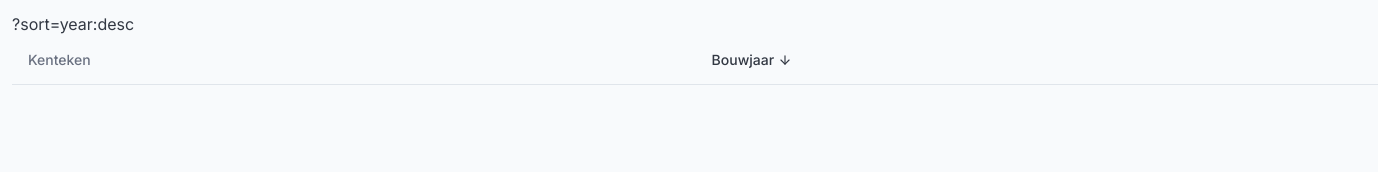
Test: useTableControls › toont de actieve kolom en richting in de kop
The image size is (1378, 172).
Click the button "Bouwjaar".
click(752, 60)  # box [704,46,800,74]
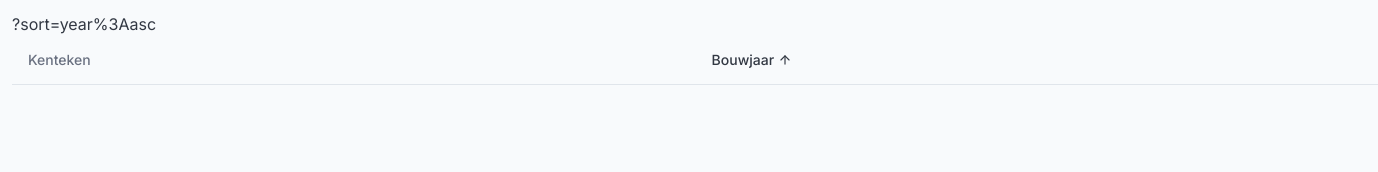
Result: the column heading "Bouwjaar" has attribute aria-sort="ascending" at [696,36,1377,84]
